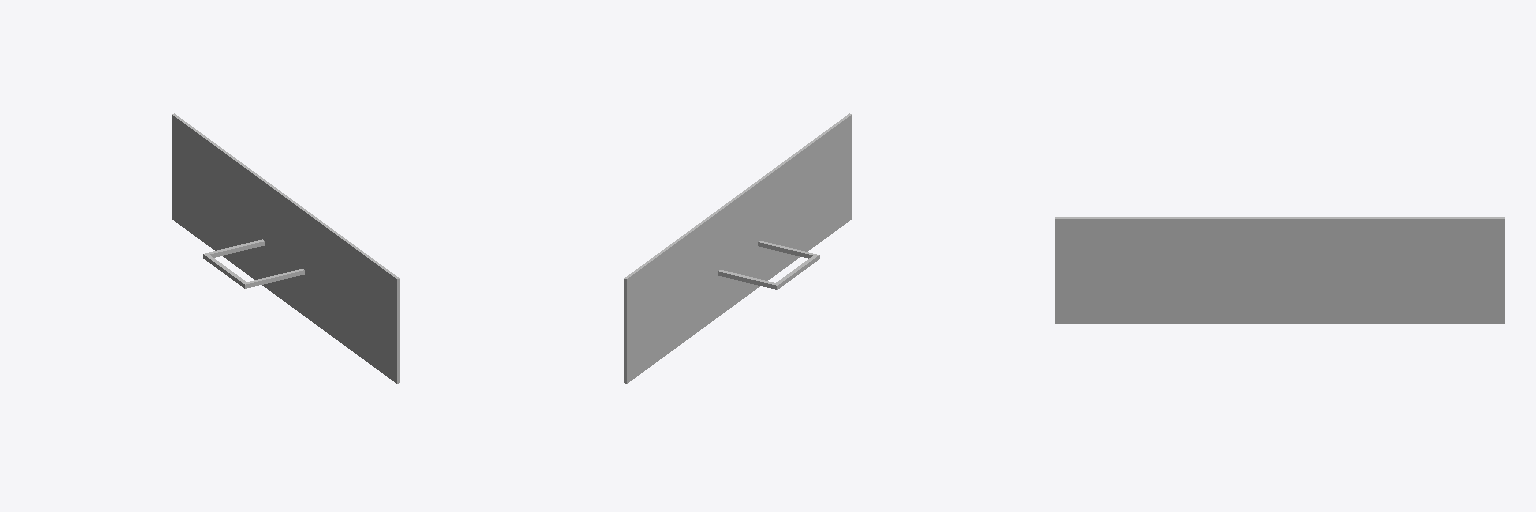
File: shield.obj
3 renders of one model, left to right at view 1: azimuth 30°, elevation 25°; view 2: azimuth 150°, elevation 25°; view 3: azimuth 270°, elevation 25°, orthographic.
Parts seen in each view (by area): view 1: Shield; view 2: Shield; view 3: Shield.
Boxes of the visible parts, box(x1,y1,x2,y2) form: Shield: box(172, 113, 399, 383); Shield: box(624, 113, 851, 383); Shield: box(1055, 217, 1504, 323).
Size of the model in its own units: 4.26 by 6.83 by 26.63.